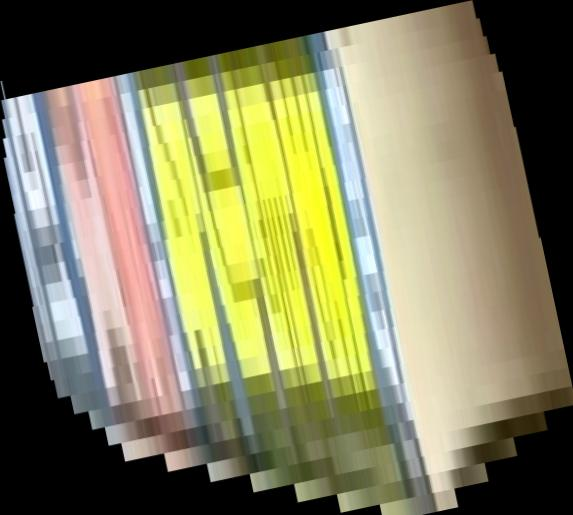flat: (1, 1, 573, 515)
